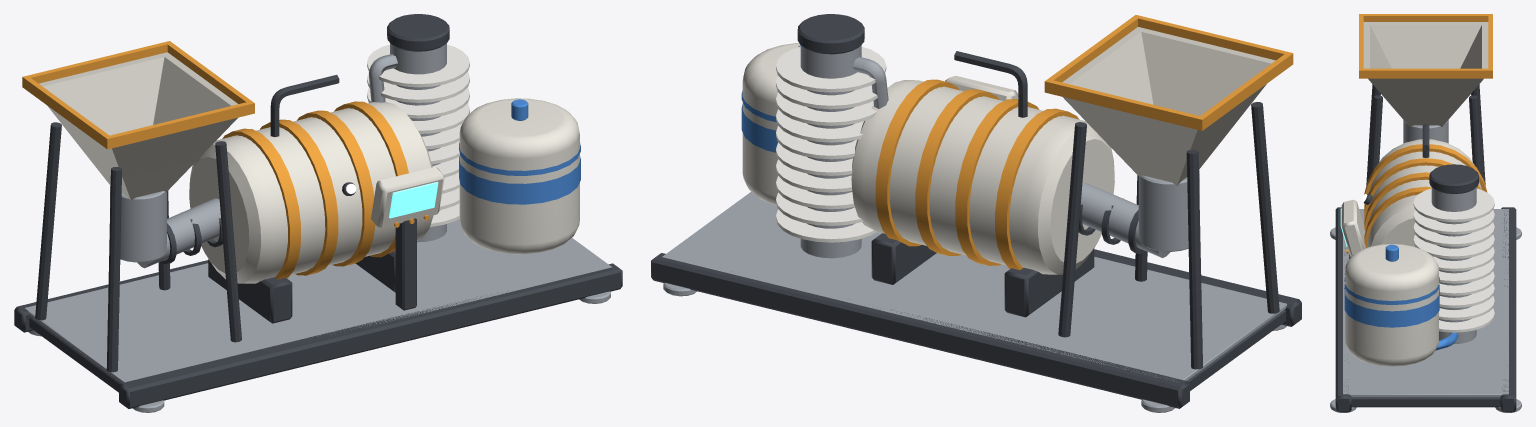
Rendered from ice_processor_v4.glb.
3 views of the same model, side by side, from view 1: azimuth 30°, elevation 25°; view 2: azimuth 150°, elevation 25°; view 3: azimuth 270°, elevation 25° (orthographic). The views are drawn at different scales.
Parts seen in each view (by area): view 1: body; view 2: body; view 3: body.
Boxes of the visible parts, x1,y1,x2,y2 form: body: (14,14,622,412); body: (651,14,1301,412); body: (1330,14,1521,412).
Size of the model in its own units: 4.04 by 2.06 by 1.7.
